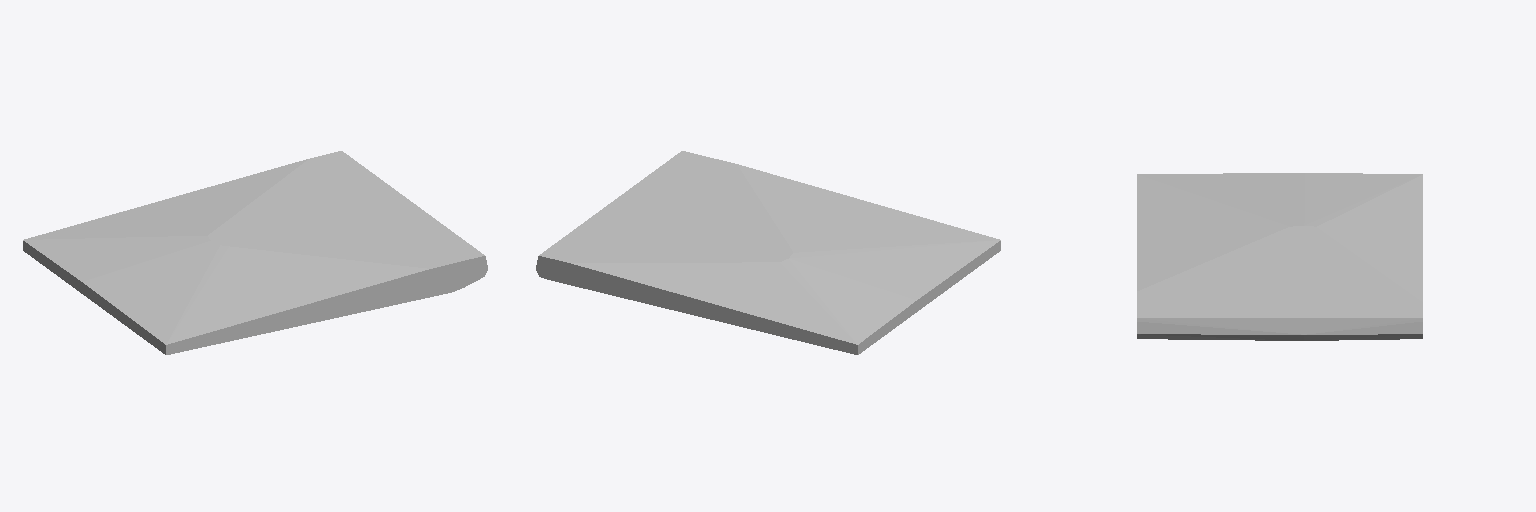
Rendered from ShipScene_collision_0.obj.
3 renders of one model, left to right at view 1: azimuth 30°, elevation 25°; view 2: azimuth 150°, elevation 25°; view 3: azimuth 270°, elevation 25°, orthographic.
Size of the model in its own units: 147 by 12.55 by 113.